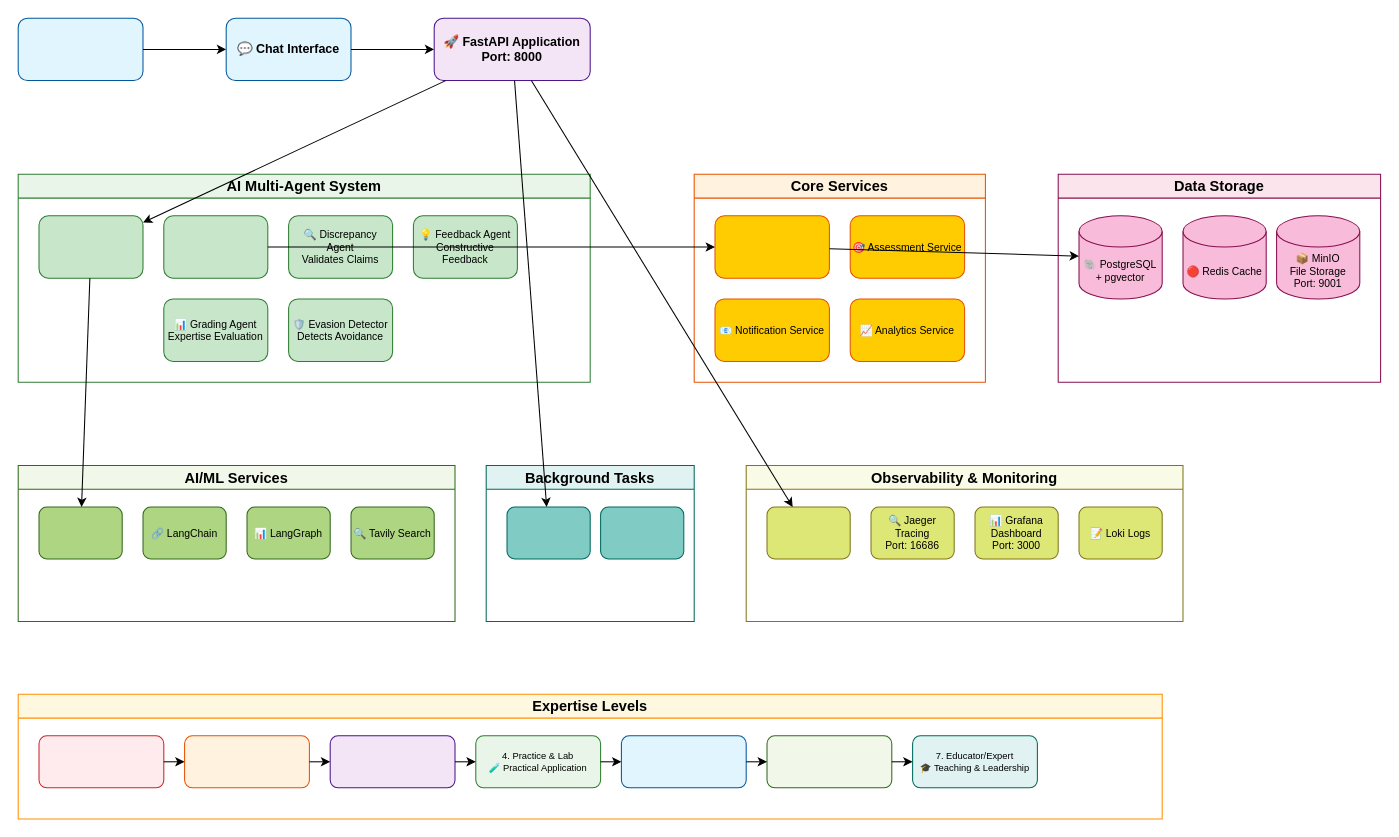
This 1399x837 diagram has some shape labels left out. The shapes that lost their labels are listed below. From the top down, each one's centre as x and y in pixels, then its label:
(x=80, y=49): 👤 Engineer/User
(x=90, y=246): 🎯 Supervisor Agent Orchestrates Flow
(x=215, y=246): 📚 Guidance Agent Educational Content
(x=771, y=246): 📋 Skill Matrix Service
(x=80, y=532): 🤖 OpenAI API
(x=548, y=532): ⚙️ Celery Task Queue
(x=642, y=532): 👷 Celery Workers
(x=808, y=532): 📡 OpenTelemetry
(x=101, y=761): 1. Not Informed ❌ No Knowledge
(x=246, y=761): 2. Informed Basics 📖 Basic Concepts
(x=392, y=761): 3. Informed Details 🎯 Strategic Understanding
(x=683, y=761): 5. Production Maintenance ⚙️ Prod Environment
(x=829, y=761): 6. Production from Scratch 🏗️ Full System Setup
